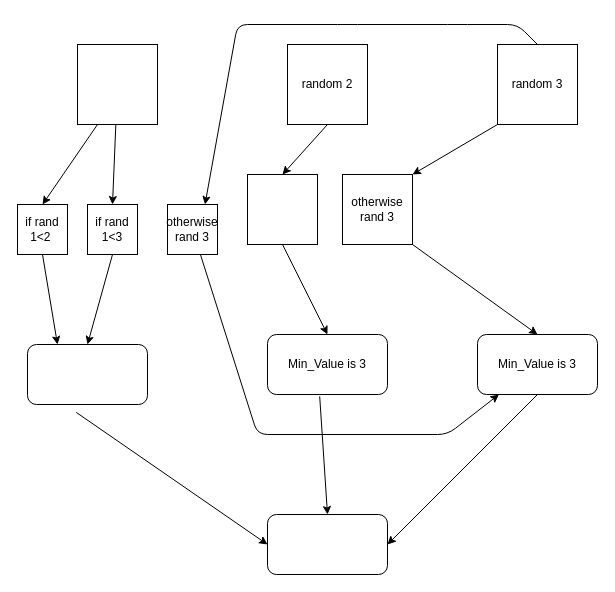
Some shapes in this 615 by 592 pixel diagram are drawn without their labels. Each missing label, with the centre of its shape:
if rand 2<3: the point at 282,209
Min_Value is 1: the point at 87,374
Output: Min _value___: the point at 327,544
random 1: the point at 117,84
